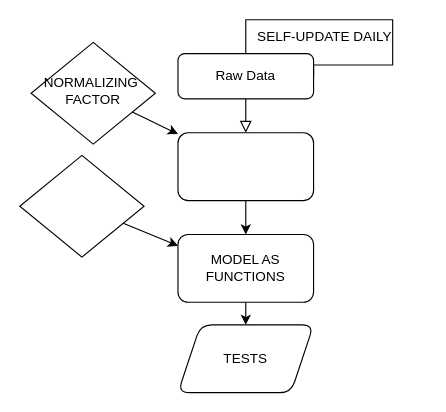
The diagram is 446 pixels wide and 412 high, and some of its shapes have lost their labels. The centre of each missing label's shape, as x and y in pixels:
"N-FACOTR Modelbw/ Weights" belongs at pixel 81 205.
"NORMALIZATION" belongs at pixel 245 166.
